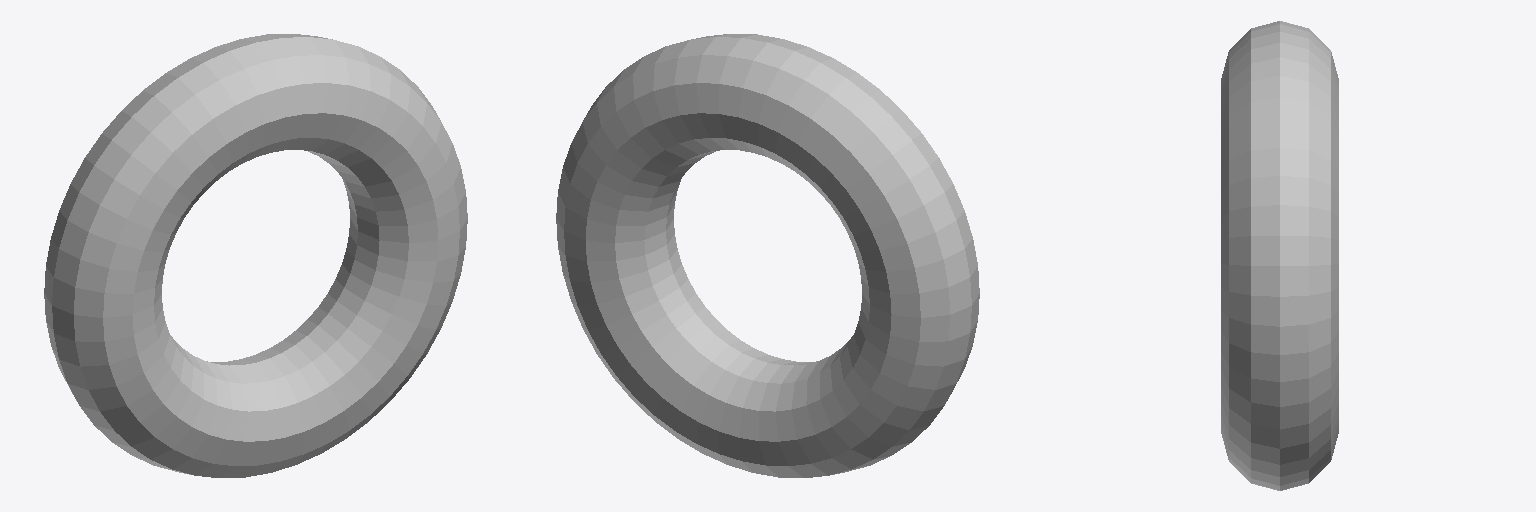
Rendered from torusleft.obj.
3 renders of one model, left to right at view 1: azimuth 30°, elevation 25°; view 2: azimuth 150°, elevation 25°; view 3: azimuth 270°, elevation 25°, orthographic.
Parts seen in each view (by area): view 1: Torus; view 2: Torus; view 3: Torus.
Part boxes in pixels (bbox=[...]): Torus: bbox=[44, 34, 467, 477]; Torus: bbox=[556, 34, 979, 477]; Torus: bbox=[1221, 21, 1338, 490].
Bounding box in the file's own units: 2 × 2 × 0.5.